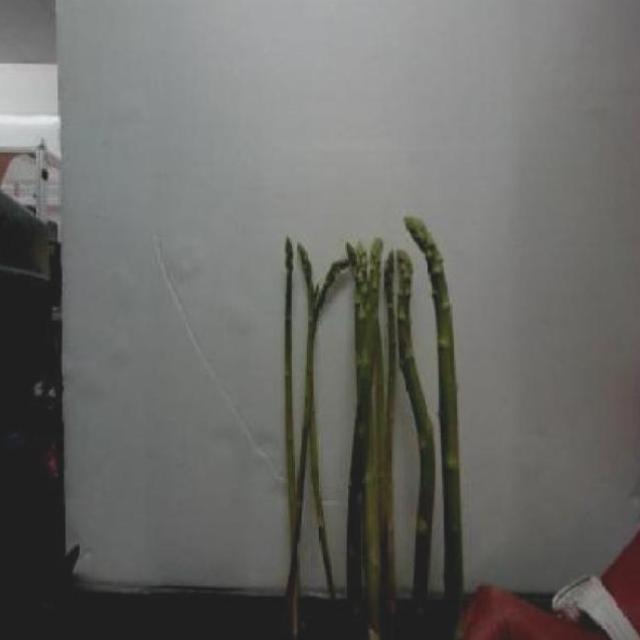aspargus: (406, 216, 465, 640), (394, 248, 437, 640)
